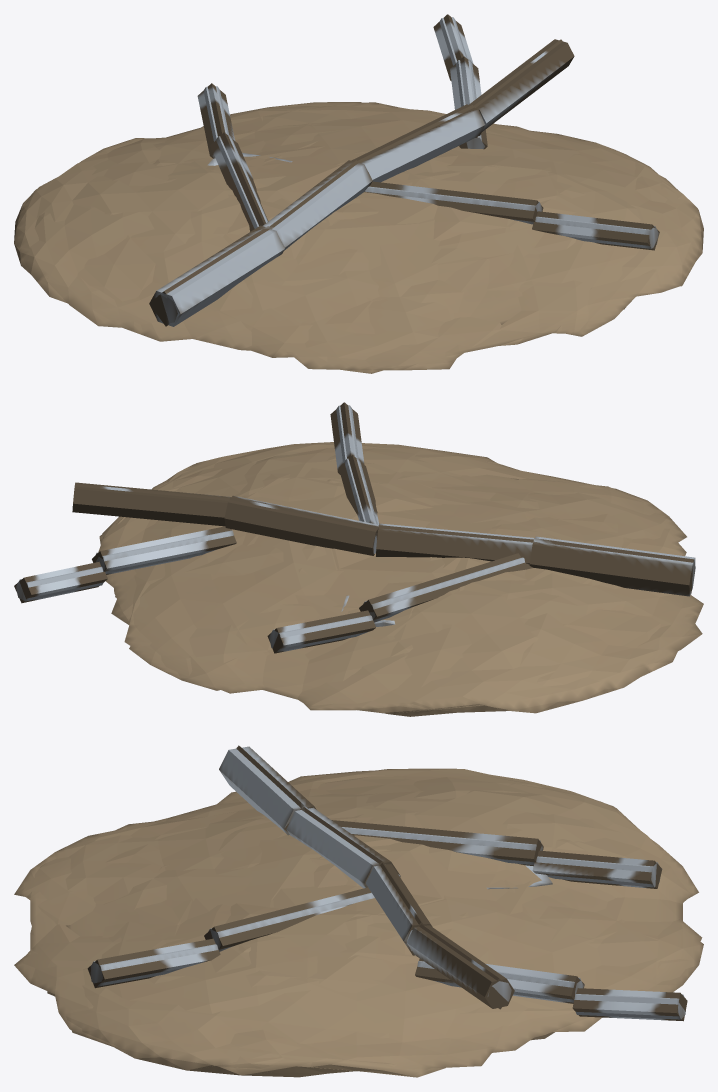
The model's file is SF_INCL_SILVER_WIRE_V1.glb.
3 views of the same model, one above another, from view 1: azimuth 30°, elevation 25°; view 2: azimuth 150°, elevation 25°; view 3: azimuth 270°, elevation 25° (orthographic). The views are drawn at different scales.
Visible parts, largest first — view 1: LOD0_SF_INCL_SILVER_WIRE_V1, LOD1_SF_INCL_SILVER_WIRE_V1, LOD2_SF_INCL_SILVER_WIRE_V1; view 2: LOD0_SF_INCL_SILVER_WIRE_V1, LOD1_SF_INCL_SILVER_WIRE_V1, LOD2_SF_INCL_SILVER_WIRE_V1; view 3: LOD0_SF_INCL_SILVER_WIRE_V1, LOD1_SF_INCL_SILVER_WIRE_V1, LOD2_SF_INCL_SILVER_WIRE_V1.
Boxes of the visible parts, left/top/right/bottom form: LOD0_SF_INCL_SILVER_WIRE_V1: left=14, top=17, right=703, bottom=373; LOD1_SF_INCL_SILVER_WIRE_V1: left=149, top=14, right=659, bottom=326; LOD2_SF_INCL_SILVER_WIRE_V1: left=149, top=39, right=562, bottom=326; LOD0_SF_INCL_SILVER_WIRE_V1: left=15, top=405, right=703, bottom=716; LOD1_SF_INCL_SILVER_WIRE_V1: left=14, top=402, right=695, bottom=656; LOD2_SF_INCL_SILVER_WIRE_V1: left=74, top=474, right=695, bottom=622; LOD0_SF_INCL_SILVER_WIRE_V1: left=14, top=768, right=703, bottom=1077; LOD1_SF_INCL_SILVER_WIRE_V1: left=47, top=746, right=687, bottom=1040; LOD2_SF_INCL_SILVER_WIRE_V1: left=66, top=745, right=569, bottom=1009.
Bounding box in the file's own units: 1.12 × 0.1598 × 1.06.
Materials: 1 (1 with a texture image).
